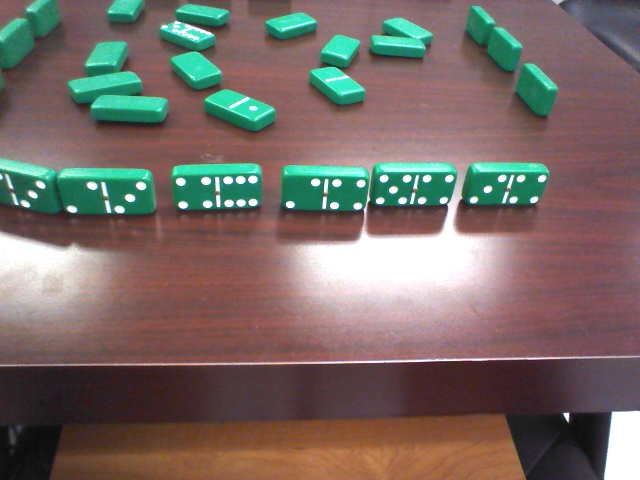A: (92, 92, 169, 123), (66, 72, 147, 99), (172, 50, 223, 86), (319, 32, 361, 66), (267, 12, 322, 37), (383, 16, 433, 41), (88, 40, 128, 70), (177, 1, 227, 25), (371, 37, 428, 56), (110, 1, 144, 21)
B: (210, 89, 272, 132), (309, 65, 362, 101), (157, 21, 218, 47)
C: (2, 20, 34, 69), (25, 2, 63, 37)
D: (511, 62, 555, 116), (491, 29, 521, 70), (462, 6, 491, 43)
E: (57, 169, 159, 213), (283, 163, 366, 212), (173, 164, 264, 208), (468, 162, 548, 207), (372, 164, 453, 207), (2, 159, 60, 216)
